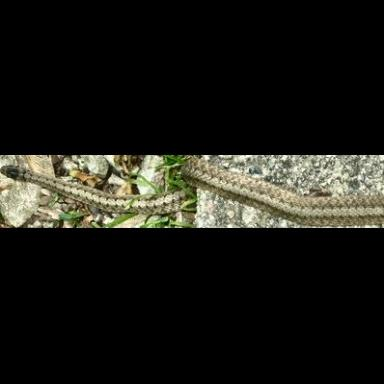snake: (0, 158, 384, 229)
